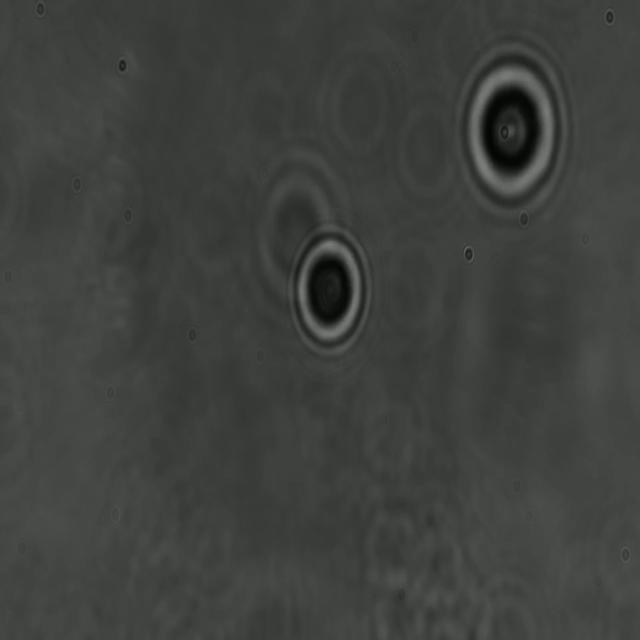DCELL: (281, 218, 380, 360)
LCELL: (448, 34, 575, 220)
